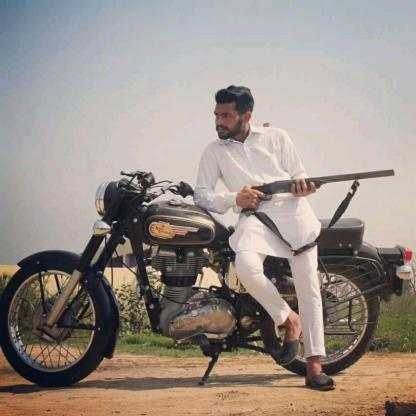rifle: (240, 167, 396, 214)
